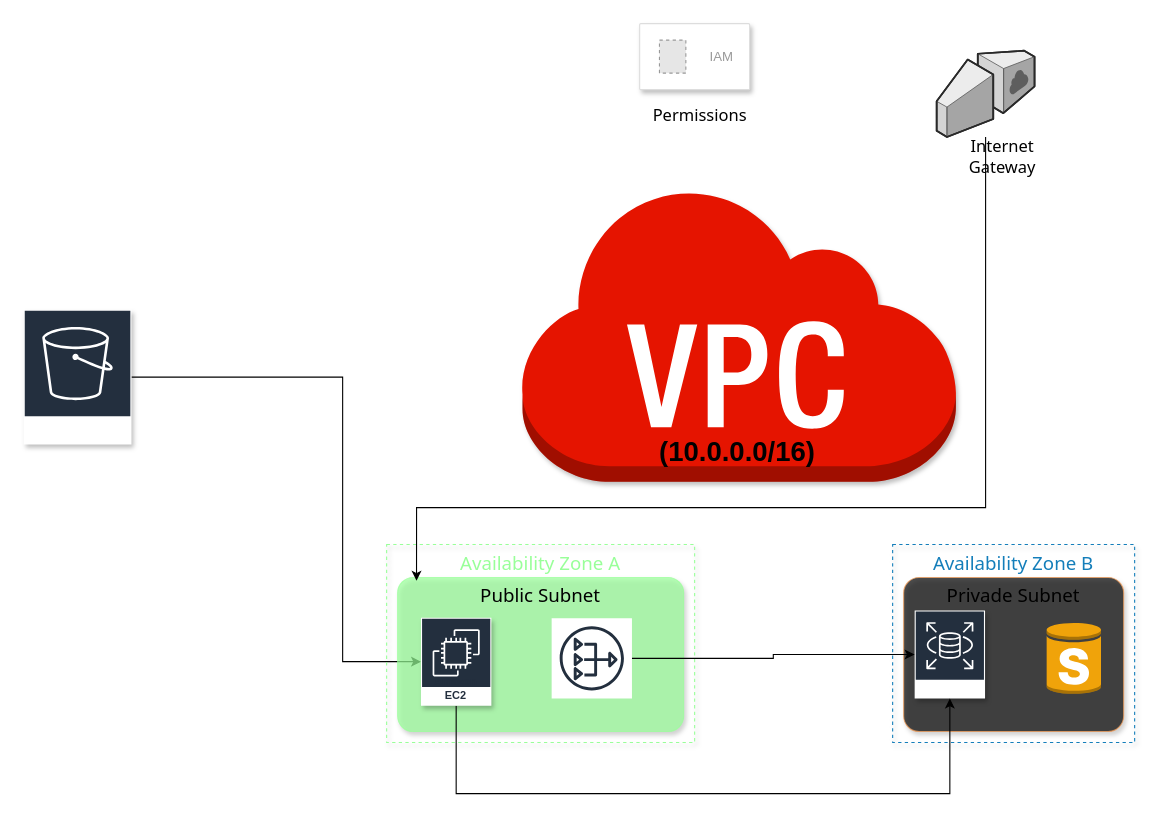
Image size: 1161x822. Some labels were removed from this diagram. Grey dashed boxes stand in for pictures. The centre of each missing label's shape, as x and y in pixels:
"Amazon RDS" goes at point (950, 655).
"Amazon S3" goes at point (78, 378).
"NAT gateway" goes at point (591, 657).
